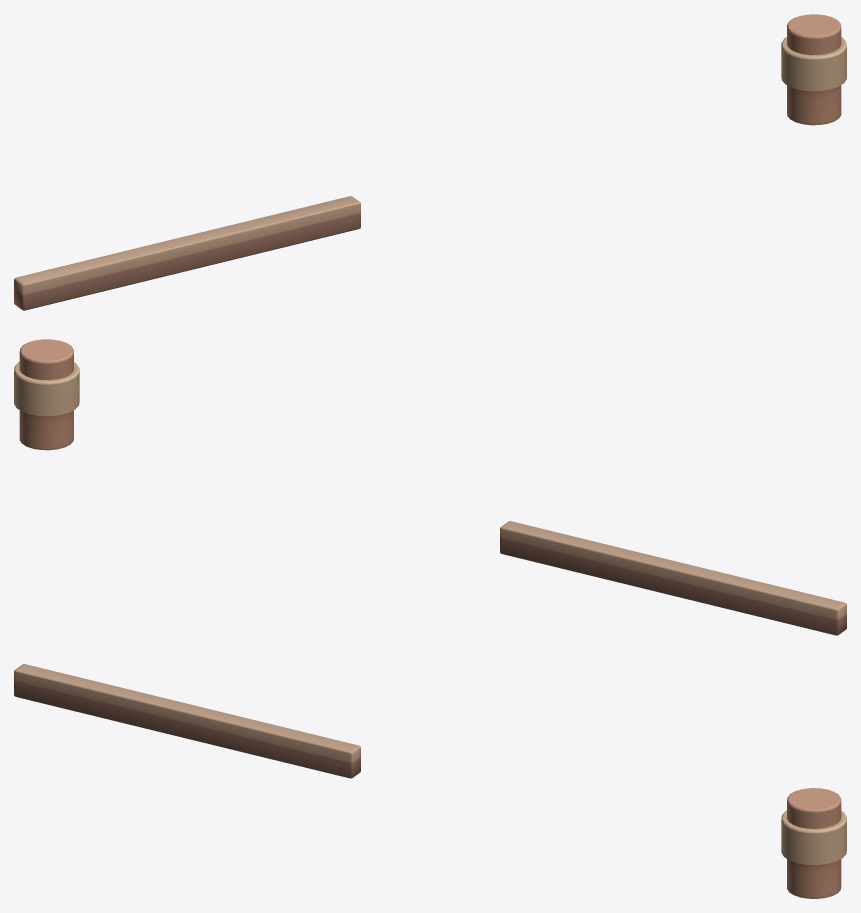
Rendered from Props.fbx.
The picture shows the model from 3 angles, top to bottom: view 1: azimuth 30°, elevation 25°; view 2: azimuth 150°, elevation 25°; view 3: azimuth 330°, elevation 25°; orthographic projection.
Parts seen in each view (by area): view 1: Box20-3_1, Cylinder-2; view 2: Box20-3_1, Cylinder-2; view 3: Box20-3_1, Cylinder-2.
Part boxes in pixels (<box>): Box20-3_1: <box>14,196,360,310</box>; Cylinder-2: <box>781,14,846,125</box>; Box20-3_1: <box>500,521,846,635</box>; Cylinder-2: <box>14,339,79,450</box>; Box20-3_1: <box>14,664,360,778</box>; Cylinder-2: <box>781,788,846,898</box>.
Bounding box in the file's own units: 48.69 × 5 × 3.38.
